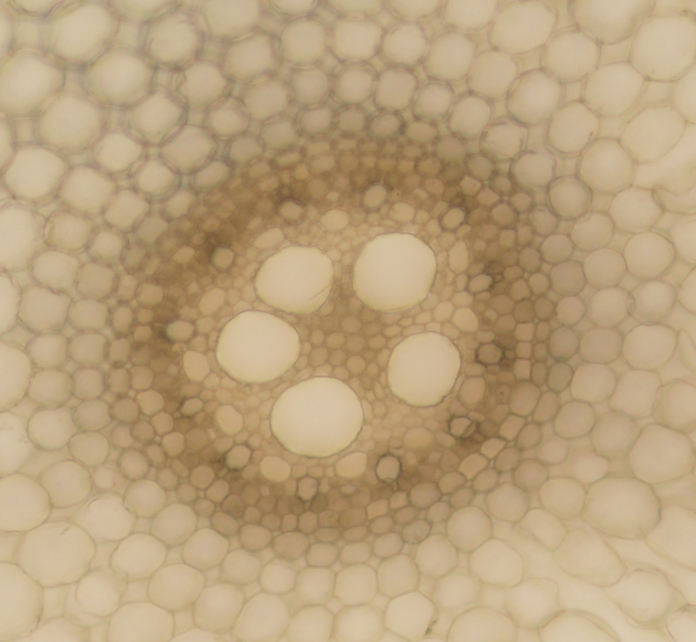lm: (271, 377, 364, 457), (353, 231, 437, 311), (216, 310, 298, 383), (387, 330, 461, 407), (254, 245, 333, 314)
